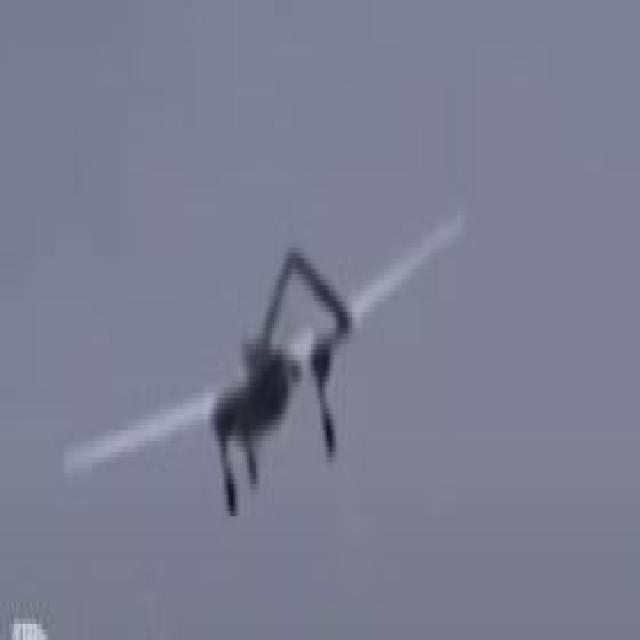iha: (57, 206, 467, 520)
